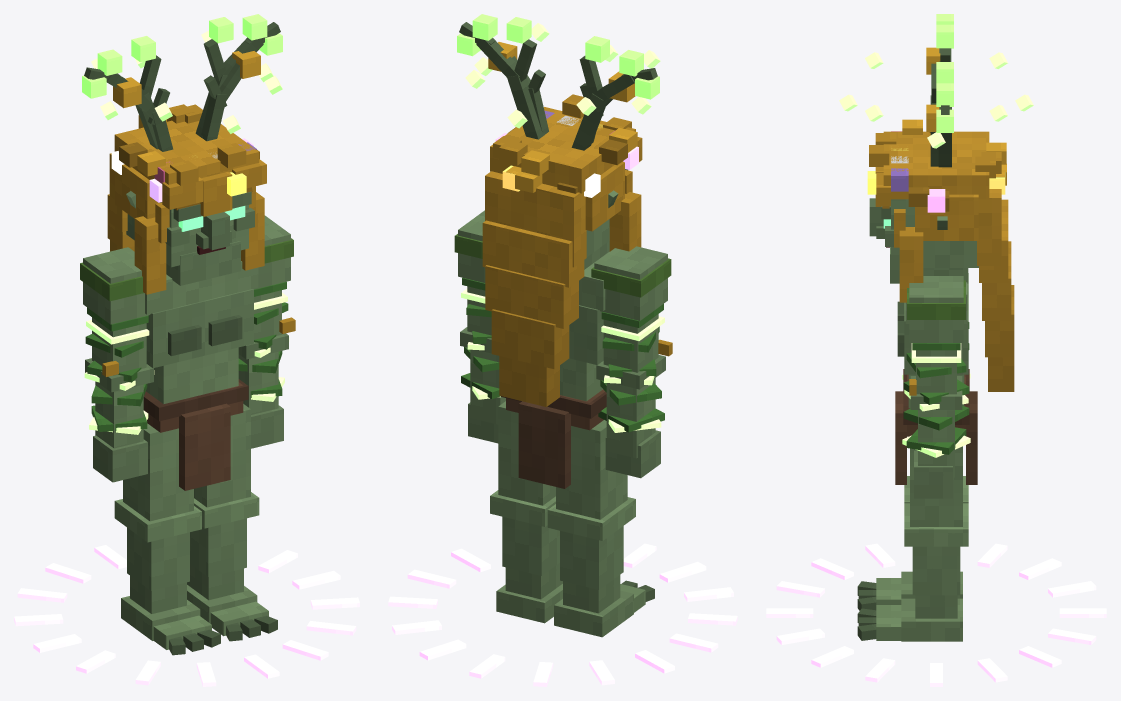
File: dryad_base_v2_evo3.glb
3 renders of one model, left to right at view 1: azimuth 30°, elevation 25°; view 2: azimuth 150°, elevation 25°; view 3: azimuth 270°, elevation 25°, orthographic. The views are drawn at different scales.
Parts seen in each view (by area): view 1: Head, Torso, ArmR, LegR, LegL, Root, ArmL; view 2: Head, ArmR, LegR, Torso, LegL, Root, ArmL; view 3: Head, ArmL, LegL, Root, Torso, LegR.
Part boxes in pixels (left/top/right/bottom): Head: left=82, top=14, right=282, bottom=294; Torso: left=143, top=261, right=258, bottom=490; ArmR: left=80, top=247, right=154, bottom=482; LegR: left=114, top=423, right=211, bottom=649; LegL: left=187, top=404, right=268, bottom=636; Root: left=14, top=545, right=359, bottom=686; ArmL: left=238, top=215, right=295, bottom=448; Head: left=457, top=14, right=660, bottom=406; ArmR: left=591, top=246, right=672, bottom=478; LegR: left=547, top=420, right=645, bottom=637; Torso: left=501, top=251, right=609, bottom=488; LegL: left=490, top=401, right=562, bottom=623; Root: left=388, top=543, right=737, bottom=686; ArmL: left=454, top=210, right=505, bottom=443; Head: left=839, top=14, right=1033, bottom=391; ArmL: left=902, top=276, right=970, bottom=498; LegL: left=876, top=446, right=968, bottom=641; Root: left=766, top=543, right=1106, bottom=686; Torso: left=895, top=273, right=977, bottom=484; LegR: left=876, top=476, right=968, bottom=604.
Bounding box in the file's own units: 1.16 × 2.14 × 1.16.
38 materials, 38 textured.
